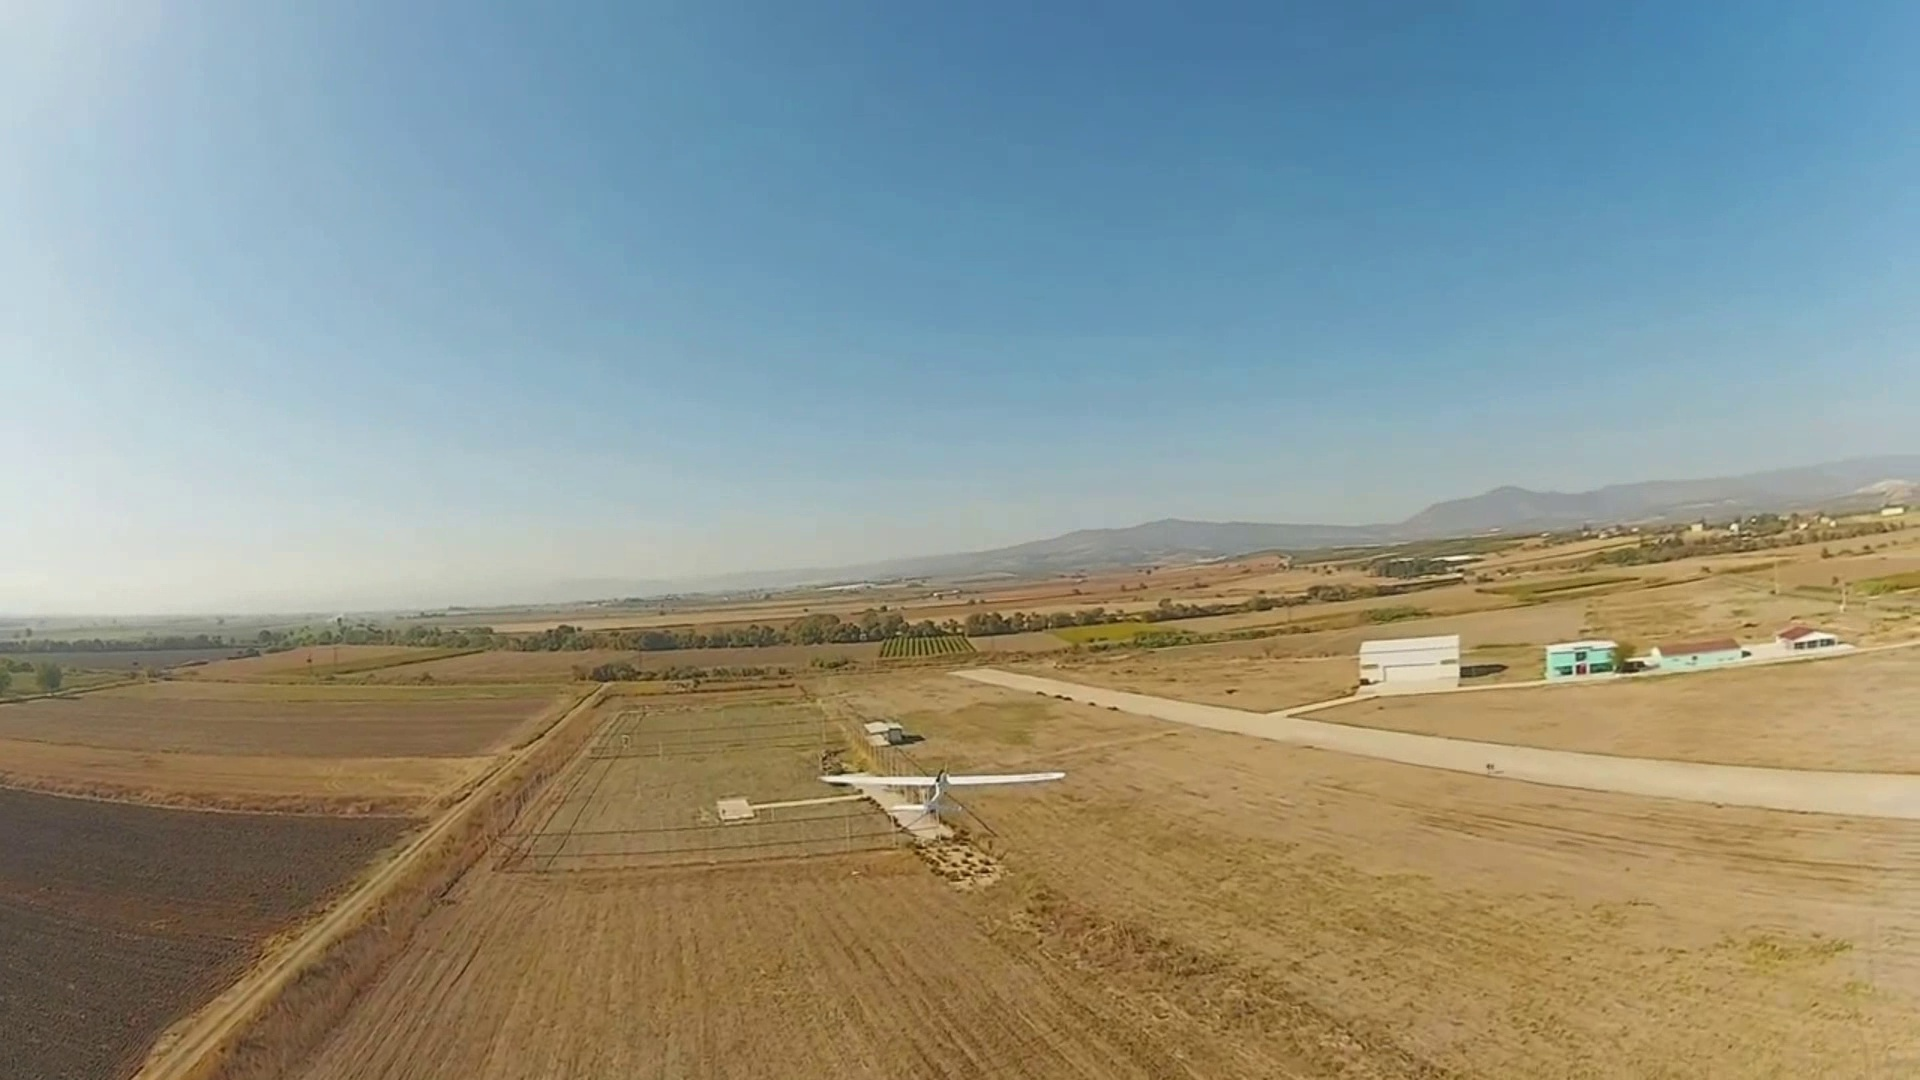airplane: (818, 717, 1068, 857)
